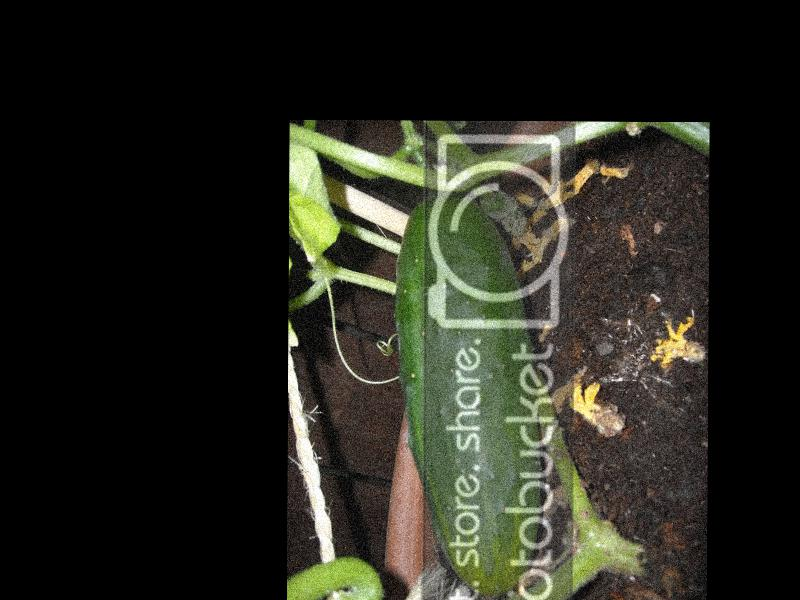Cucumber: (394, 194, 545, 595)
